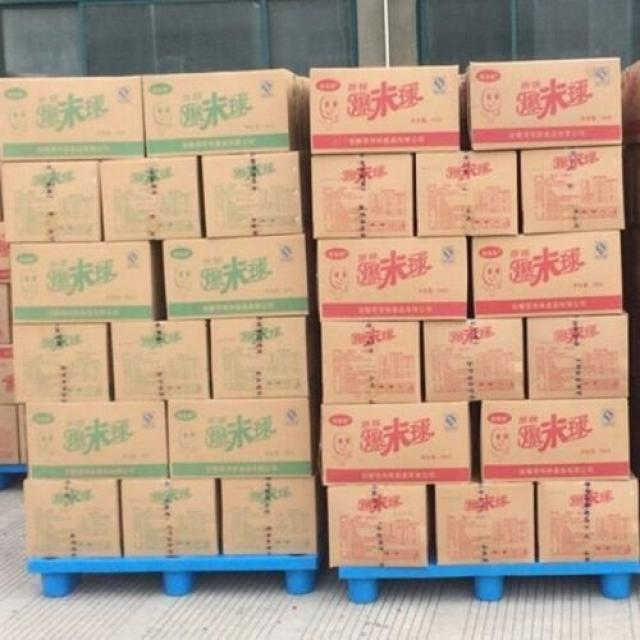box: (460, 59, 624, 148), (142, 68, 308, 153), (471, 229, 624, 318), (319, 400, 471, 486), (9, 239, 166, 322), (161, 231, 315, 315), (307, 67, 460, 151), (1, 76, 145, 164), (165, 394, 319, 475), (316, 238, 469, 318), (482, 396, 627, 480), (25, 399, 168, 478), (200, 151, 312, 237), (0, 157, 105, 245), (307, 150, 413, 237), (414, 150, 521, 236), (520, 148, 624, 236), (208, 317, 321, 397), (523, 312, 627, 398), (99, 154, 204, 239), (319, 319, 424, 404), (435, 480, 539, 564), (535, 477, 639, 561), (108, 320, 213, 402), (424, 320, 527, 401), (327, 483, 430, 564), (119, 476, 221, 555), (22, 478, 125, 555), (13, 322, 112, 401), (222, 474, 317, 554), (618, 59, 639, 146), (0, 245, 14, 351), (2, 403, 20, 467), (1, 349, 14, 404)
